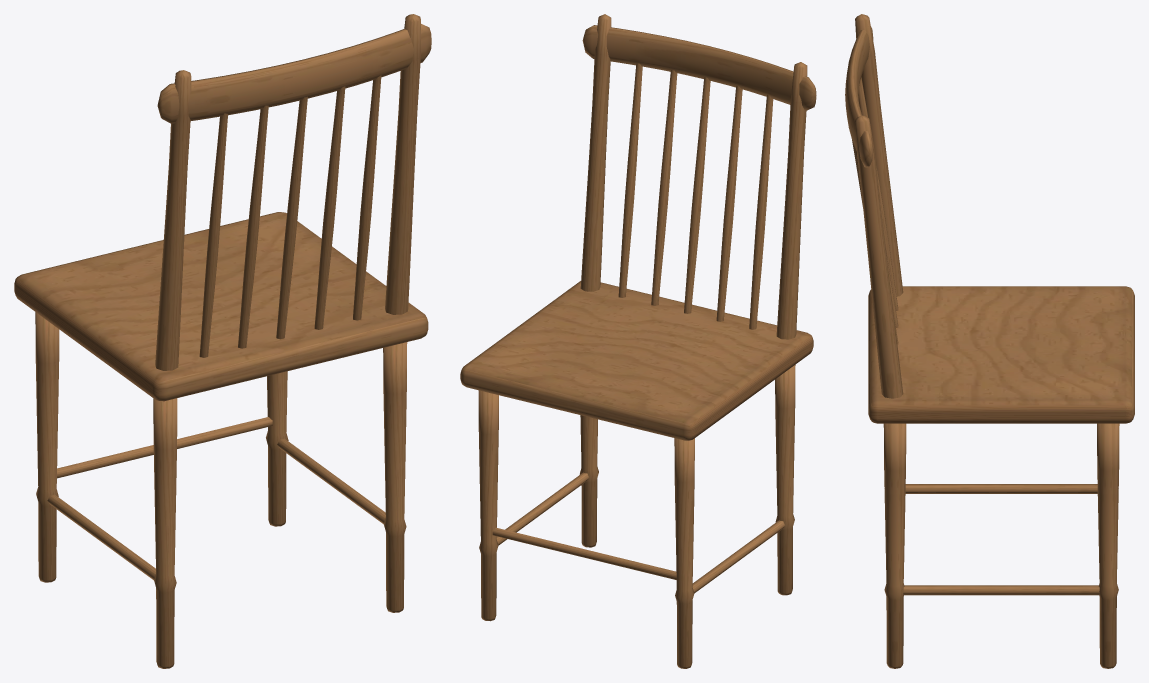
File: chair.glb
3 renders of one model, left to right at view 1: azimuth 30°, elevation 25°; view 2: azimuth 150°, elevation 25°; view 3: azimuth 270°, elevation 25°, orthographic. The views are drawn at different scales.
Visible parts, largest first — view 1: chair_mesh; view 2: chair_mesh; view 3: chair_mesh.
Part boxes in pixels (left/top/right/bottom): chair_mesh: left=14, top=14, right=431, bottom=668; chair_mesh: left=460, top=14, right=816, bottom=668; chair_mesh: left=845, top=14, right=1134, bottom=668.
Size of the model in its own units: 4.3 by 9.12 by 4.35.
Materials: 1 (1 with a texture image).
